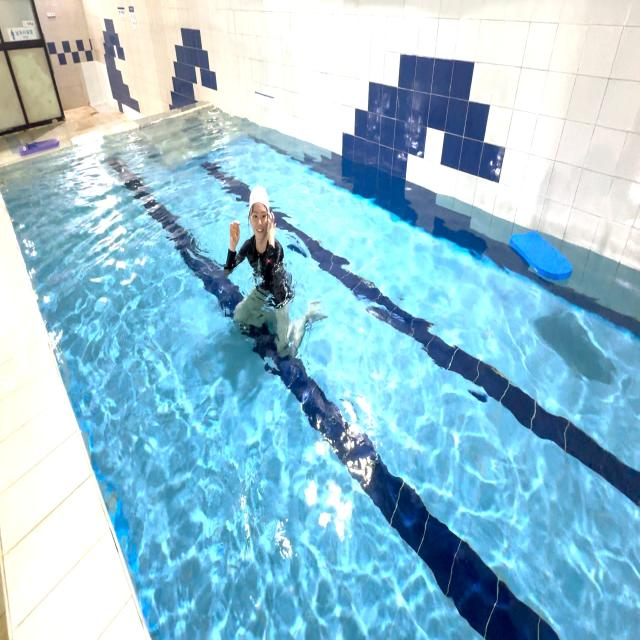Swimming: (204, 162, 337, 383)
